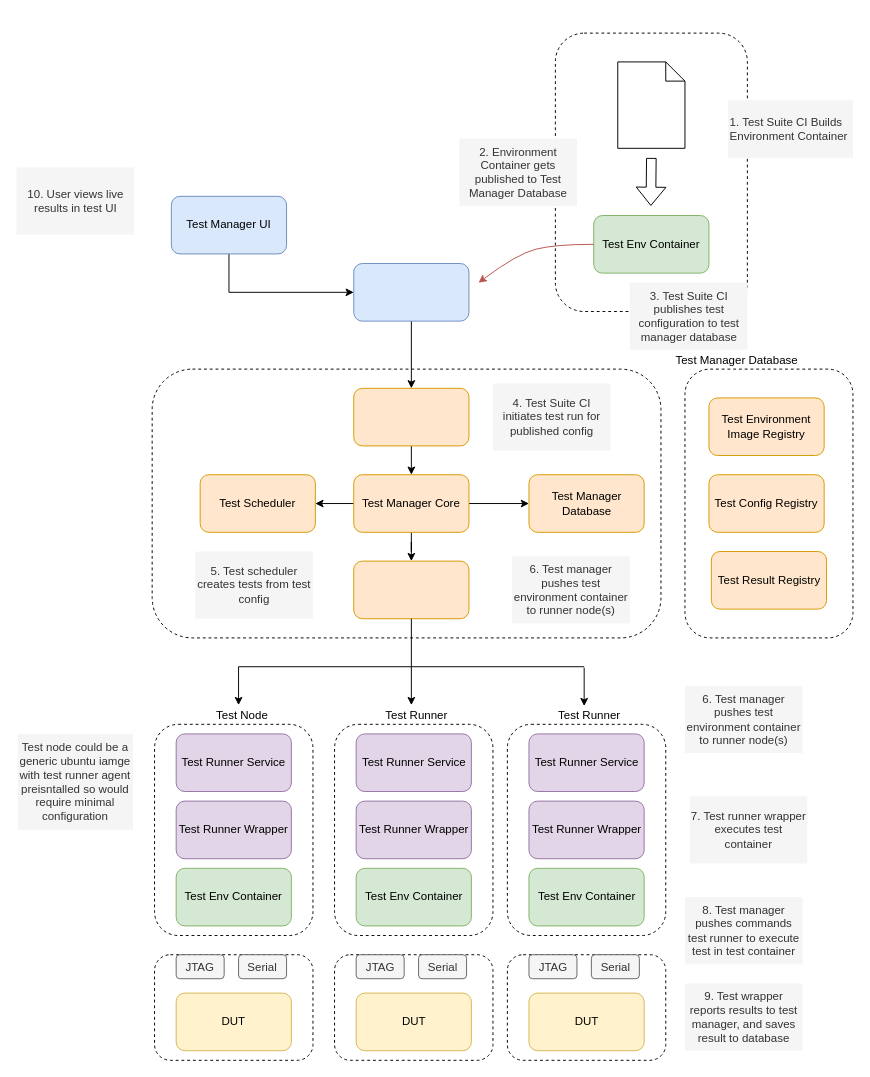
Some shapes in this 870 by 1077 pixel diagram are drawn without their labels. The box of each missing label's shape, as (x1, y1, x2, y2) in pixels:
Test Environment Dockerfile: (617, 61, 685, 148)
Test Manager API: (353, 387, 469, 446)
Test Manager Client: (353, 263, 469, 321)
Test Manager Service: (151, 368, 661, 638)
Test Runner Client: (353, 560, 469, 619)
Test Suite CI: (554, 32, 747, 312)
